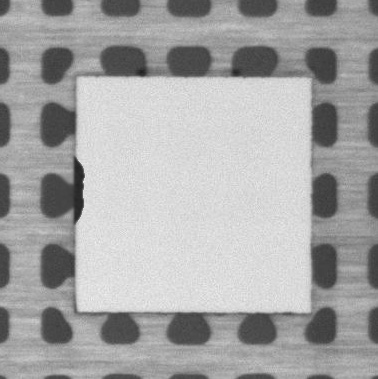DIE_BROKEN: (71, 156, 87, 229)
